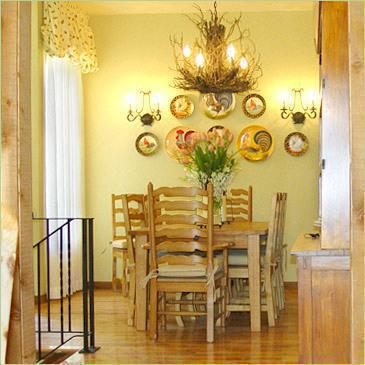Escaleras: (38, 218, 95, 363)
Ventana: (50, 63, 78, 213)
